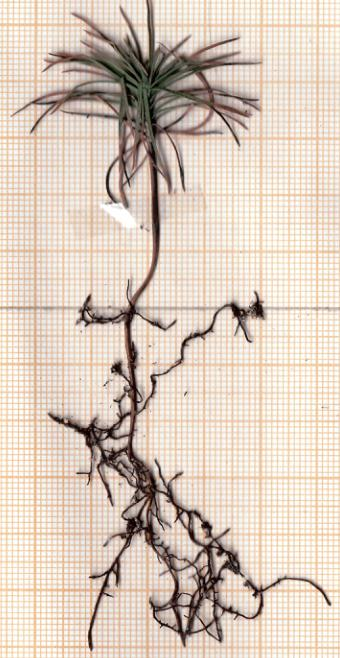flower: (8, 0, 265, 166)
root: (42, 285, 337, 655)
stem: (128, 149, 168, 294)
